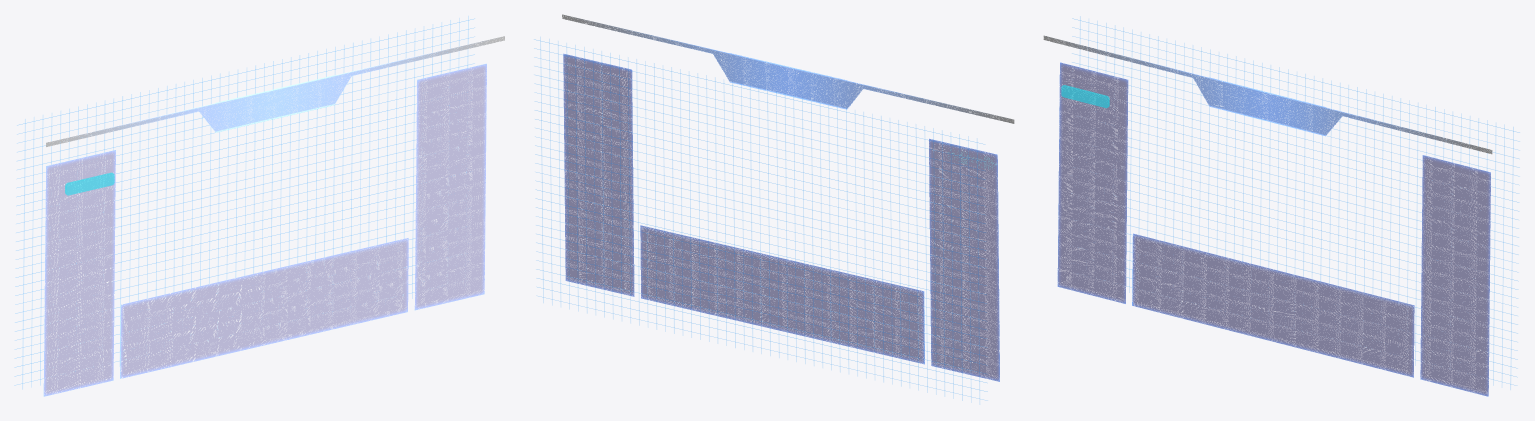
File: hud.glb
3 views of the same model, side by side, from view 1: azimuth 30°, elevation 25°; view 2: azimuth 150°, elevation 25°; view 3: azimuth 330°, elevation 25° (orthographic). The views are drawn at different scales.
Size of the model in its own units: 0.4924 by 0.2807 by 0.0558.
4 materials, 3 textured.
